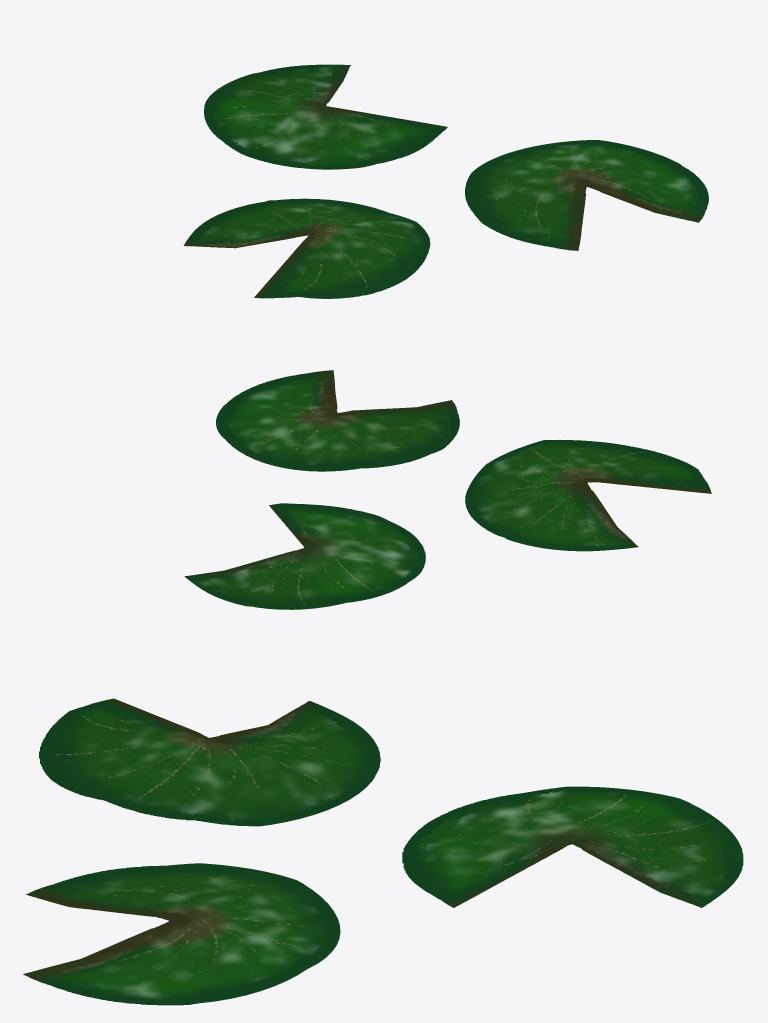
The model's file is LILLYPADS.fbx.
The picture shows the model from 3 angles, top to bottom: view 1: azimuth 30°, elevation 25°; view 2: azimuth 150°, elevation 25°; view 3: azimuth 270°, elevation 25°; orthographic projection. The views are drawn at different scales.
Parts seen in each view (by area): view 1: pPlane44; view 2: pPlane44; view 3: pPlane44.
Part boxes in pixels (x1=…): pPlane44: x1=183, y1=64, x2=708, y2=298; pPlane44: x1=184, y1=370, x2=711, y2=609; pPlane44: x1=23, y1=698, x2=743, y2=1005.
Size of the model in its own units: 20 by 0.8583 by 20.
